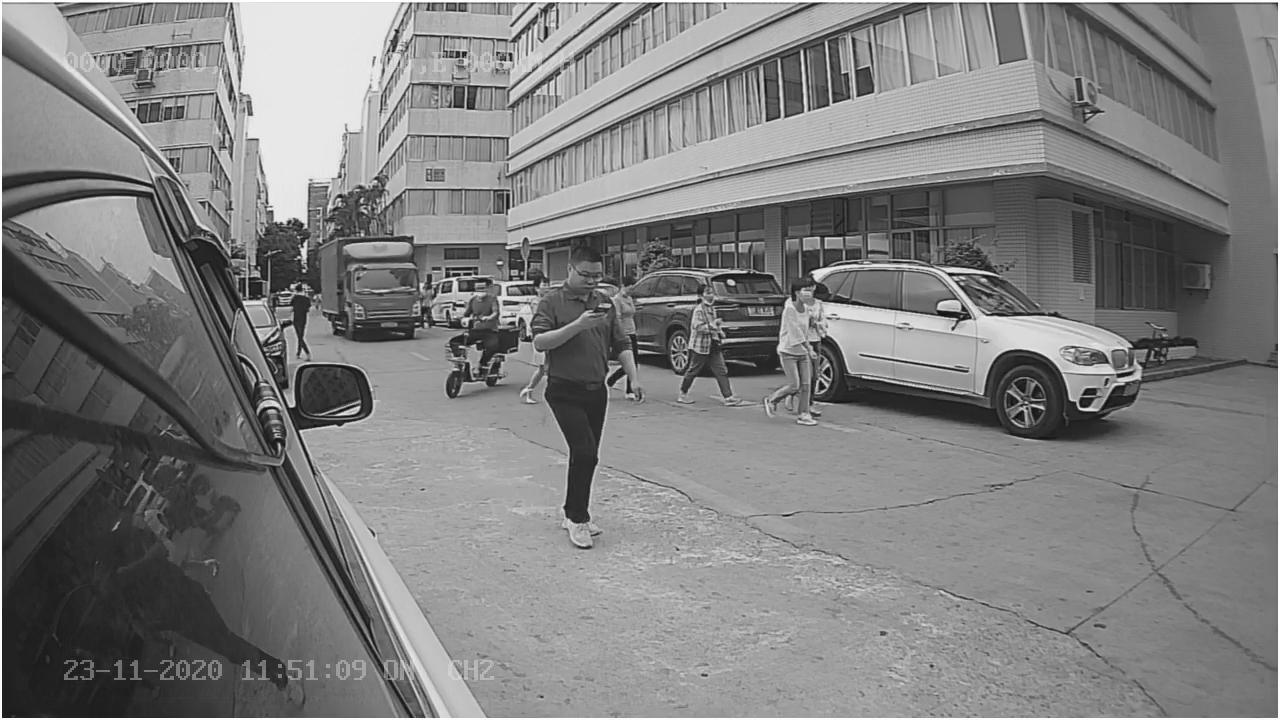person: (531, 240, 638, 548), (675, 280, 745, 415)
